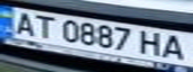0: (57, 17, 81, 44)
7: (112, 25, 136, 52)
8: (93, 21, 115, 51), (78, 20, 96, 47)
A: (160, 33, 190, 61), (9, 9, 39, 36)
H: (136, 28, 166, 57)
T: (30, 12, 60, 39)
